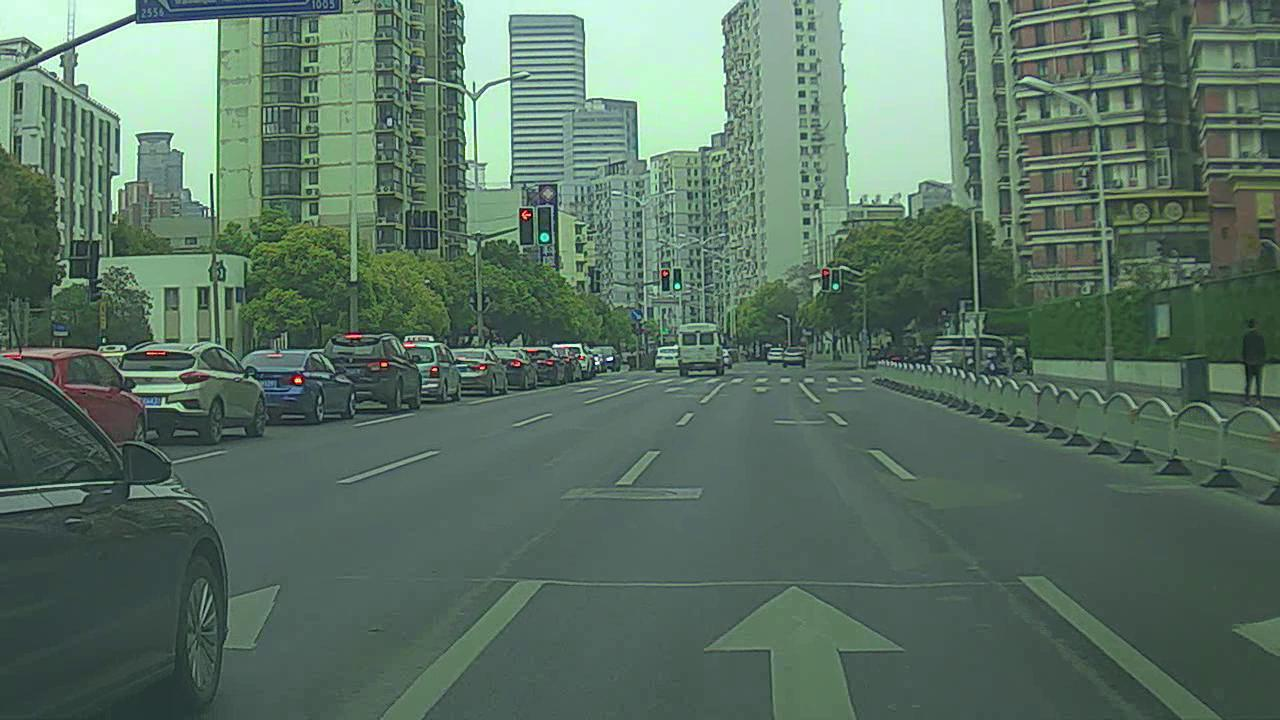traffic_light: (533, 203, 555, 243), (517, 207, 533, 246), (817, 265, 831, 290), (660, 269, 674, 293), (831, 264, 841, 289), (674, 266, 683, 292)
